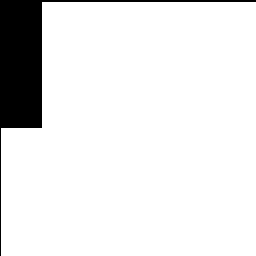rumex: (42, 2, 255, 255), (1, 128, 44, 256)
